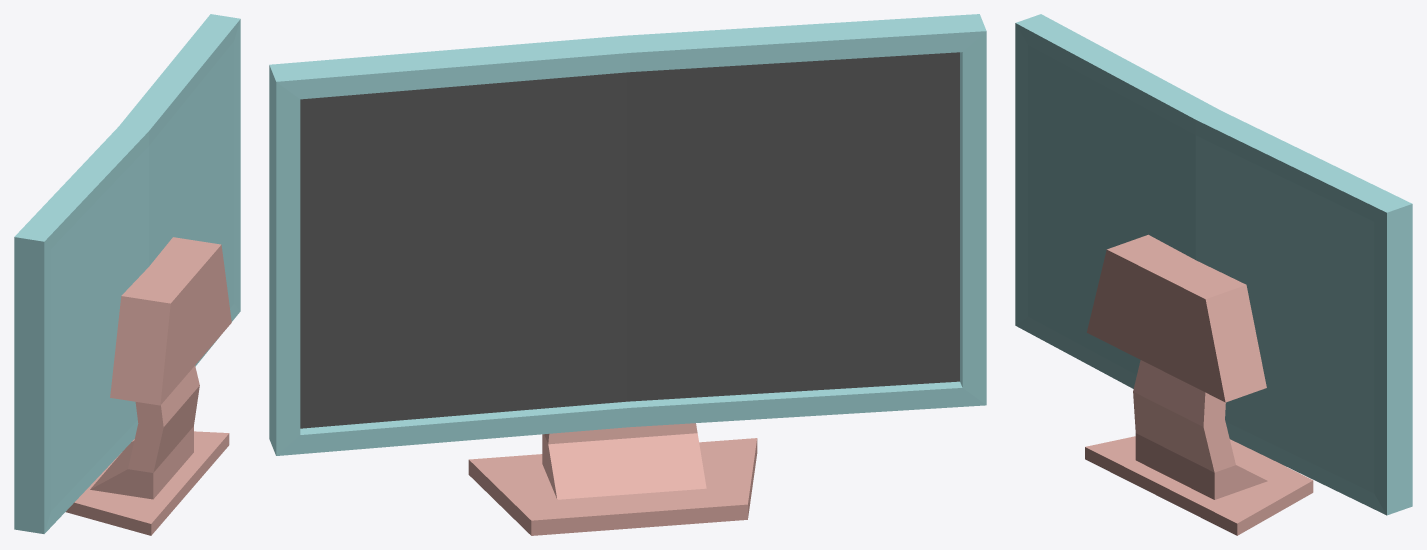
File: MesaPMonitor.fbx
The picture shows the model from 3 angles, left to right: view 1: azimuth 30°, elevation 25°; view 2: azimuth 150°, elevation 25°; view 3: azimuth 270°, elevation 25°; orthographic projection. The views are drawn at different scales.
Visible parts, largest first — view 1: TelaPCA.006; view 2: TelaPCA.006; view 3: TelaPCA.006.
Part boxes in pixels (box(x1,y1,x2,y2)): TelaPCA.006: box(14, 14, 240, 535); TelaPCA.006: box(269, 14, 986, 535); TelaPCA.006: box(1015, 14, 1412, 535).
Size of the model in its own units: 52.44 by 44.96 by 44.27.
